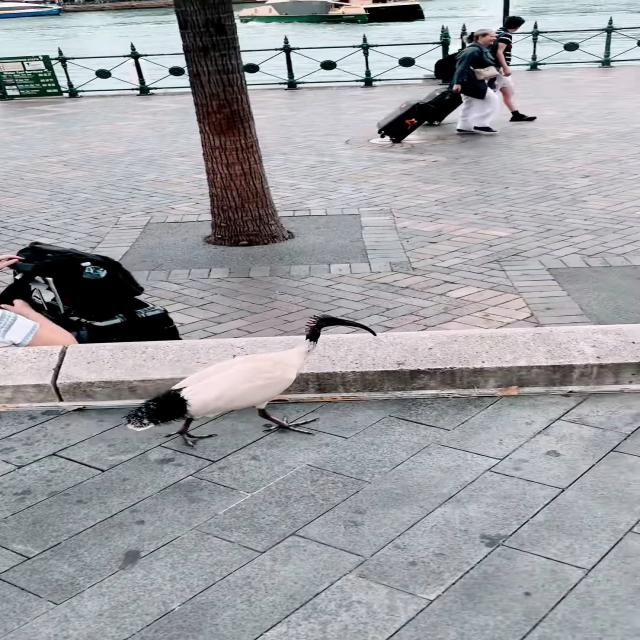Birds-Ibis: (117, 310, 383, 451)
